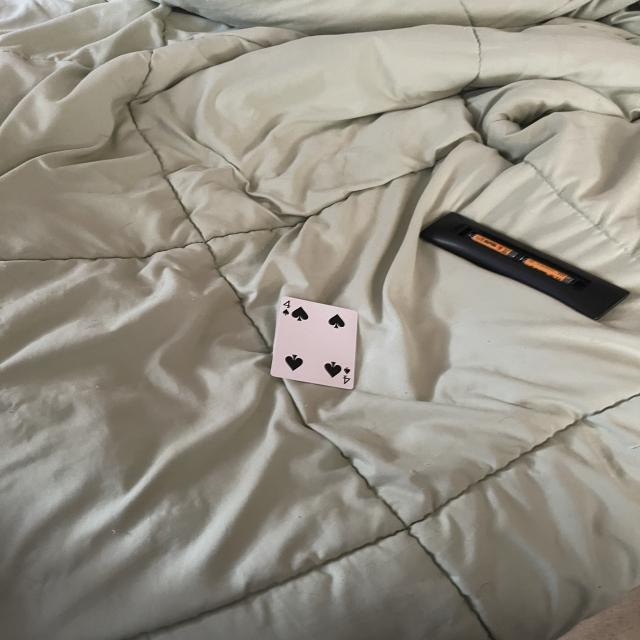4 of spades: (269, 296, 358, 390)
